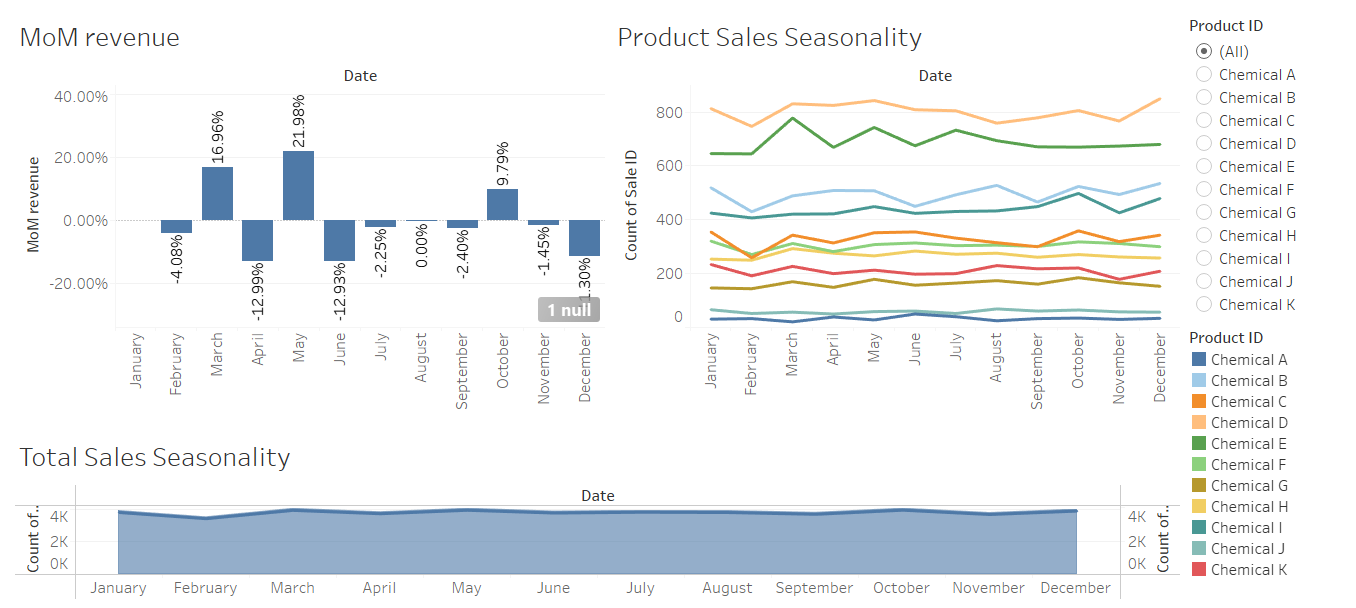

Layout of this report page (visuals, bound fields, positions):
{"tool":"tableau","page":{"name":"Seasonality","canvas":[1000,1000],"units":"permille","ordinal":6},"visuals":[{"type":"worksheet","title":"MoM revenue","mark":"Bar","cols":["Date"],"box":[6.3,14.1,437.9,687.8]},{"type":"worksheet","title":"Product Sales Seasonality","mark":"Automatic","rows":["Sale ID"],"cols":["Date"],"box":[444.2,14.1,423.7,687.8]},{"type":"filter","title":"MoM revenue","param":"[federated.10osk8j0nwherq13hjfzk0k1x9g8].[none:Product ID:nk]","box":[867.9,14.1,125.8,481.5]},{"type":"legend","title":"Product Sales Seasonality","param":"[federated.10osk8j0nwherq13hjfzk0k1x9g8].[none:Product ID:nk]","box":[867.9,495.6,125.8,435.6]},{"type":"worksheet","title":"Total Sales Seasonality","mark":"Automatic","rows":["Sale ID","Sale ID"],"cols":["Date"],"box":[6.3,701.9,861.6,284]}]}

Visuals, with their boxes on the dashboard's canvas, which has no fixed pixel size, in thousandths of its width and height (x1, y1, x2, y2). These are canvas units, not pixel positions in the 1356x608 screenshot, which may show the page scaled, cropped or inside an application window:
"MoM revenue" worksheet (Bar marks): bbox(6, 14, 444, 702)
"Product Sales Seasonality" worksheet: bbox(444, 14, 868, 702)
"MoM revenue" filter: bbox(868, 14, 994, 496)
"Product Sales Seasonality" legend: bbox(868, 496, 994, 931)
"Total Sales Seasonality" worksheet: bbox(6, 702, 868, 986)
